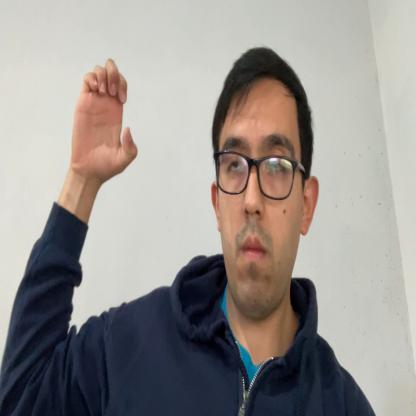E: (70, 57, 138, 180)
